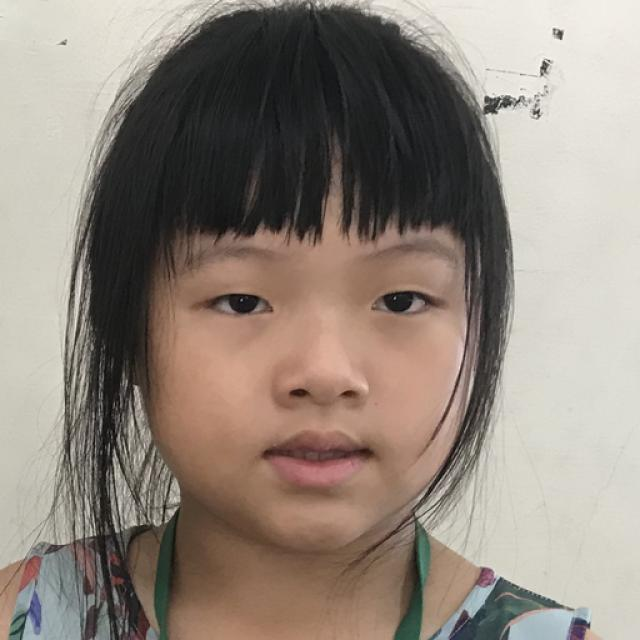neutral: (146, 128, 486, 558)
